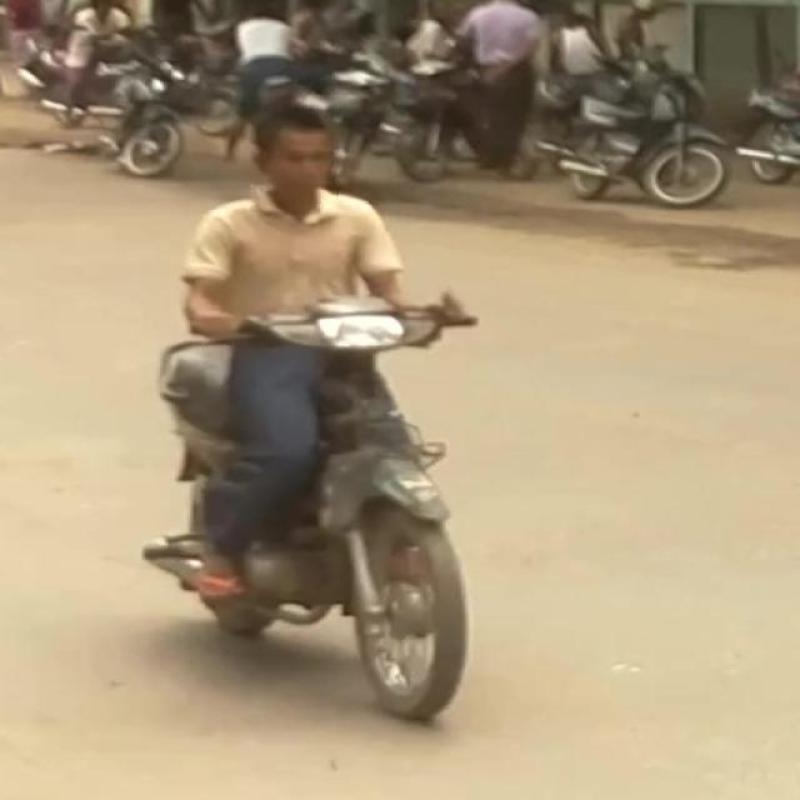nohelmet: (252, 100, 370, 204)
